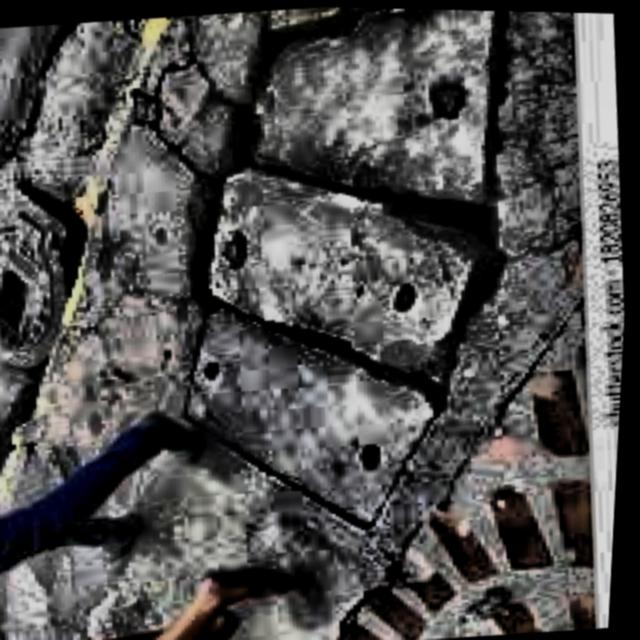open_manhole: (207, 9, 500, 504)
